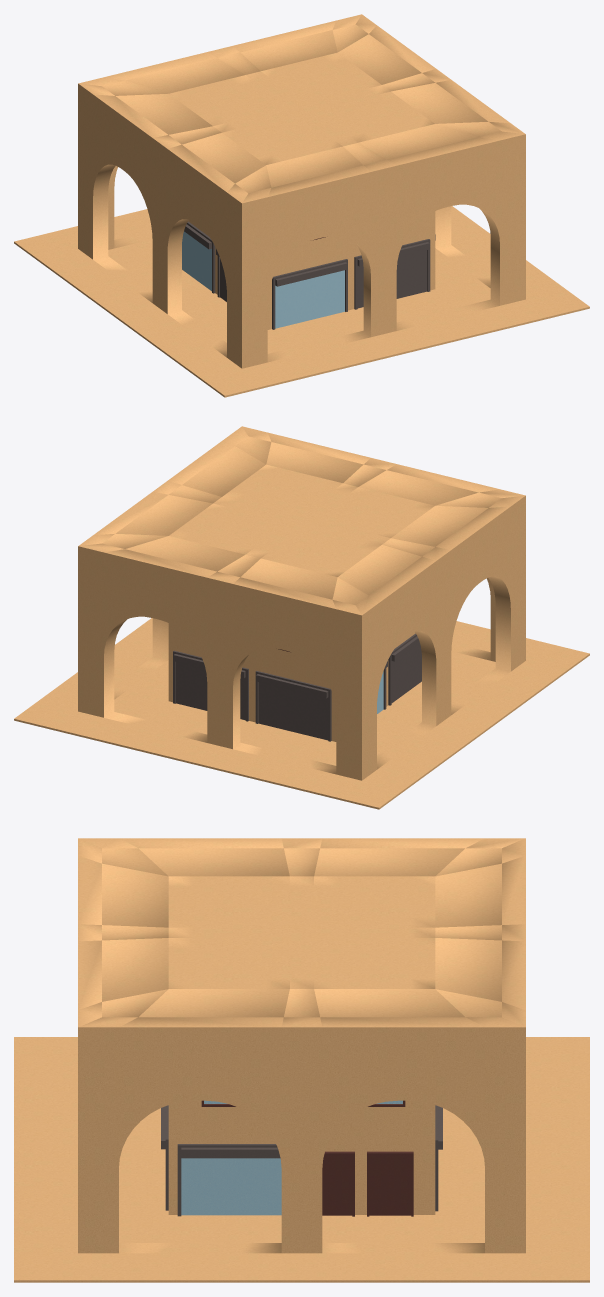
Rendered from house12.obj.
3 renders of one model, top to bottom at view 1: azimuth 30°, elevation 25°; view 2: azimuth 150°, elevation 25°; view 3: azimuth 270°, elevation 25°, orthographic. The views are drawn at different scales.
Visible parts, largest first — view 1: Cube.004_Cube.125, House.001_Plane.004_House.001_Plane.013, House.008_Plane.050, House.001_Plane.005_House.001_Plane.014; view 2: Cube.004_Cube.125, House.005_Plane.047, House.004_Plane.046, House.007_Plane.049; view 3: Cube.004_Cube.125, House.001_Plane.003_House.001_Plane.012, House.006_Plane.048, House.009_Plane.051, House.004_Plane.046, House.008_Plane.050.
Part boxes in pixels (x1,y1,x2,y2): Cube.004_Cube.125: (14, 14, 589, 397); House.001_Plane.004_House.001_Plane.013: (272, 259, 347, 329); House.008_Plane.050: (354, 239, 430, 309); House.001_Plane.005_House.001_Plane.014: (182, 221, 215, 293); Cube.004_Cube.125: (14, 426, 589, 809); House.005_Plane.047: (255, 671, 331, 741); House.004_Plane.046: (173, 650, 248, 721); House.007_Plane.049: (388, 633, 421, 705); Cube.004_Cube.125: (14, 838, 589, 1282); House.001_Plane.003_House.001_Plane.012: (177, 1144, 281, 1216); House.006_Plane.048: (367, 1151, 413, 1216); House.009_Plane.051: (322, 1151, 354, 1216); House.004_Plane.046: (435, 1105, 442, 1211); House.008_Plane.050: (161, 1105, 168, 1210).
Size of the model in its own units: 39.98 by 17.53 by 39.98.
